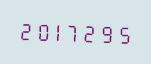five: (113, 21, 128, 45)
nine: (97, 20, 112, 45)
one: (49, 19, 64, 43)
seven: (65, 19, 80, 44)
two: (17, 17, 32, 42), (81, 20, 96, 44)
zero: (33, 18, 48, 43)
